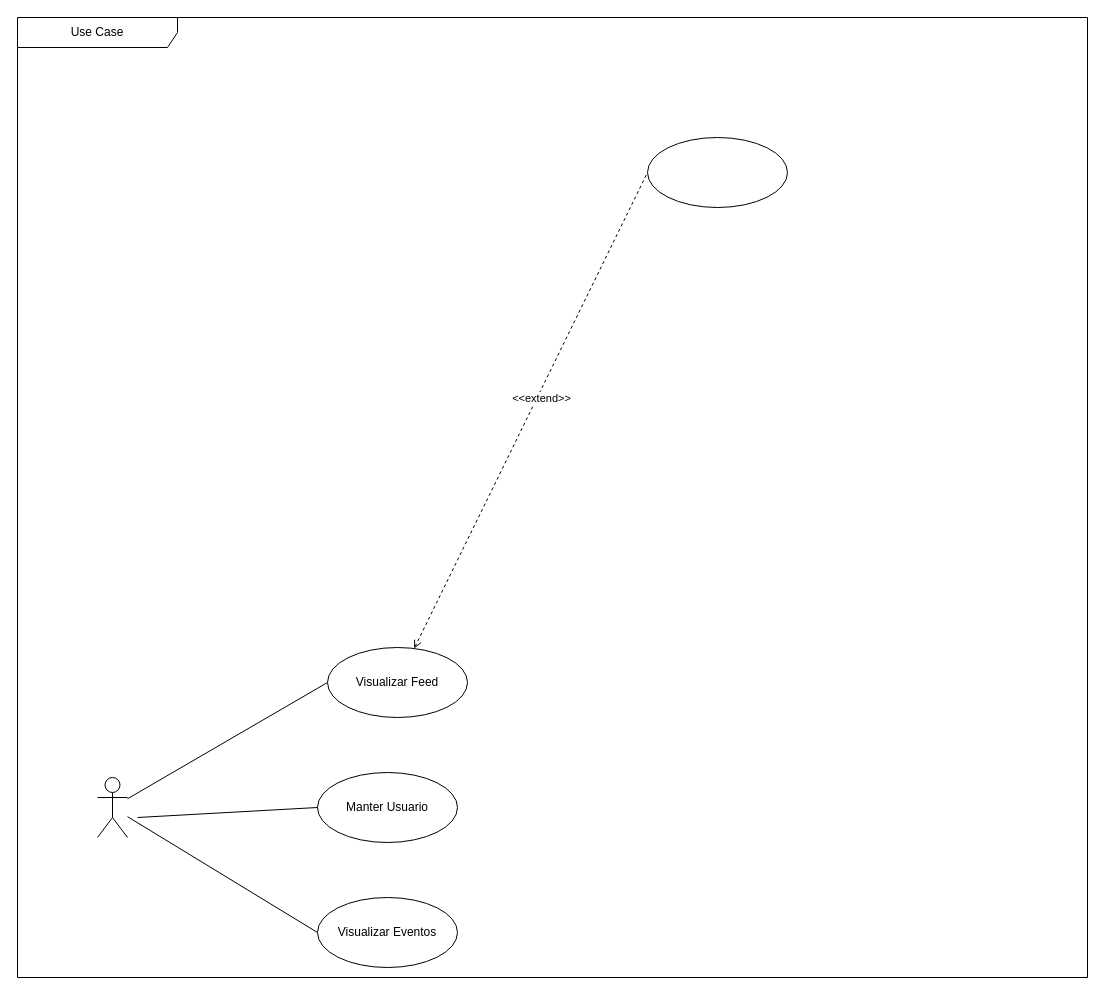
Image size: 1105x995. Some labels were removed from this diagram. Here are the shapes that lost their labels. From the top down, the box of each, then its label:
(646, 136, 788, 208): Denunciar Post
(96, 776, 128, 838): Estudante
